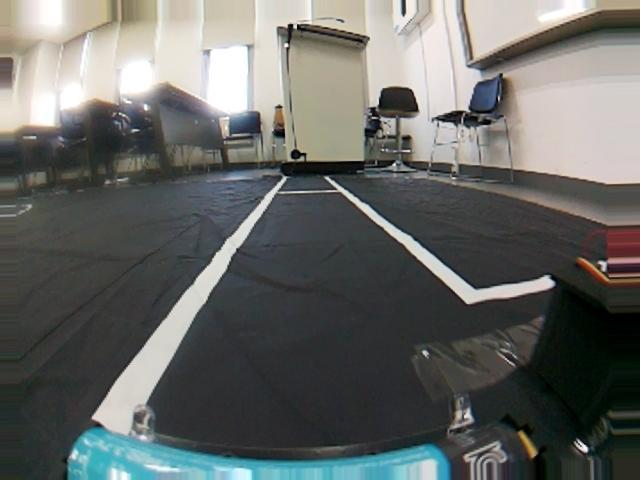straight: (5, 181, 640, 480)
